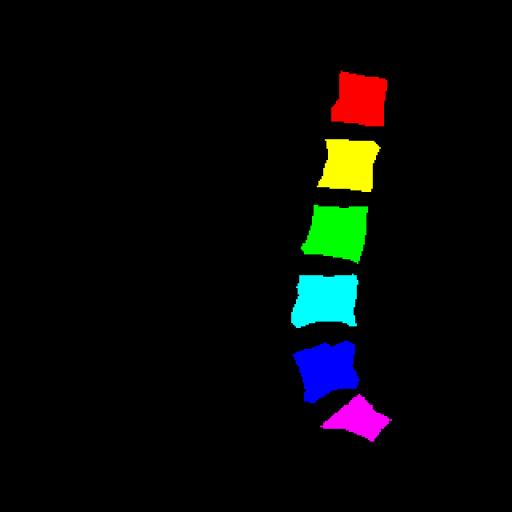L1: (331, 71, 387, 126)
L2: (317, 139, 378, 192)
L3: (301, 205, 368, 262)
L4: (291, 275, 357, 328)
L5: (293, 343, 357, 402)
S1: (321, 394, 391, 442)
